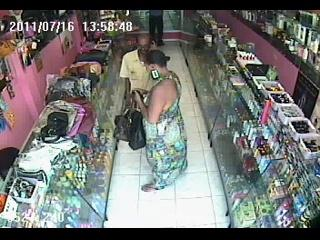Normal: (130, 49, 188, 193), (119, 32, 157, 103), (148, 10, 165, 46), (75, 50, 109, 66)
